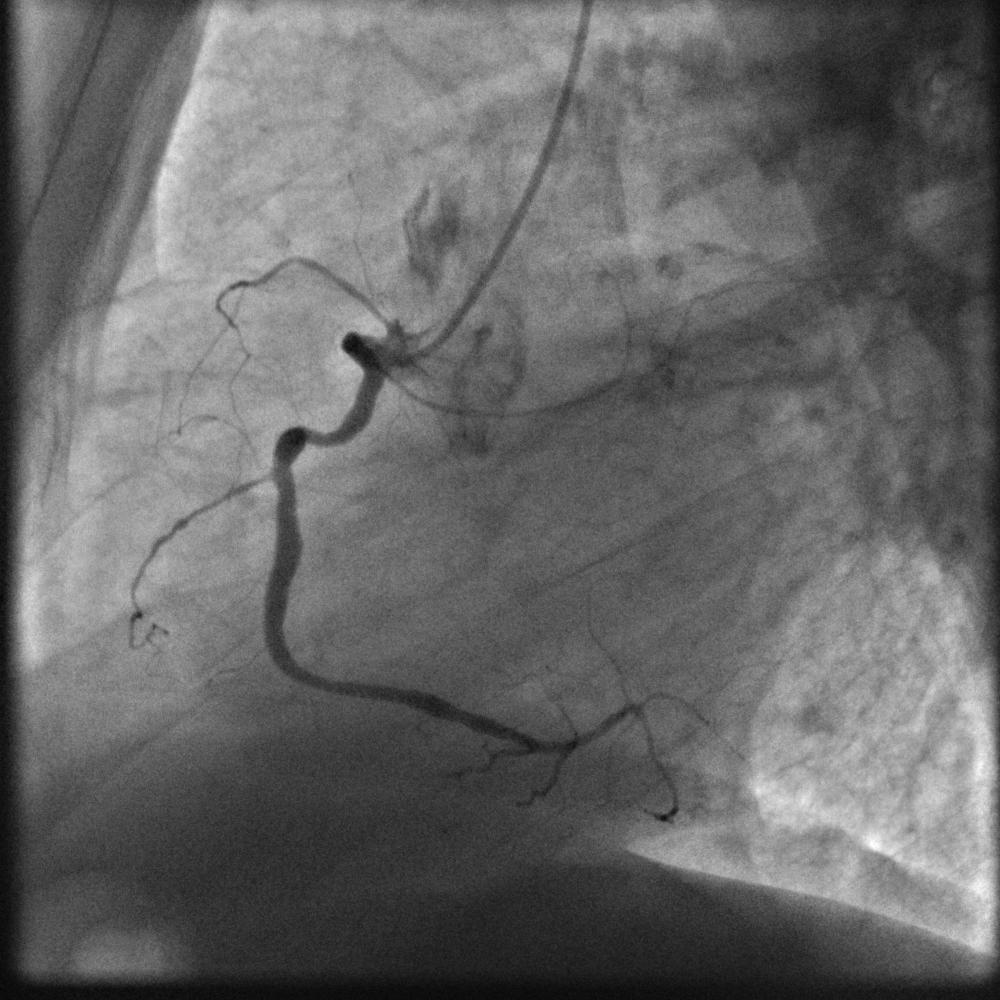Stenosis: (300, 426, 327, 453)
